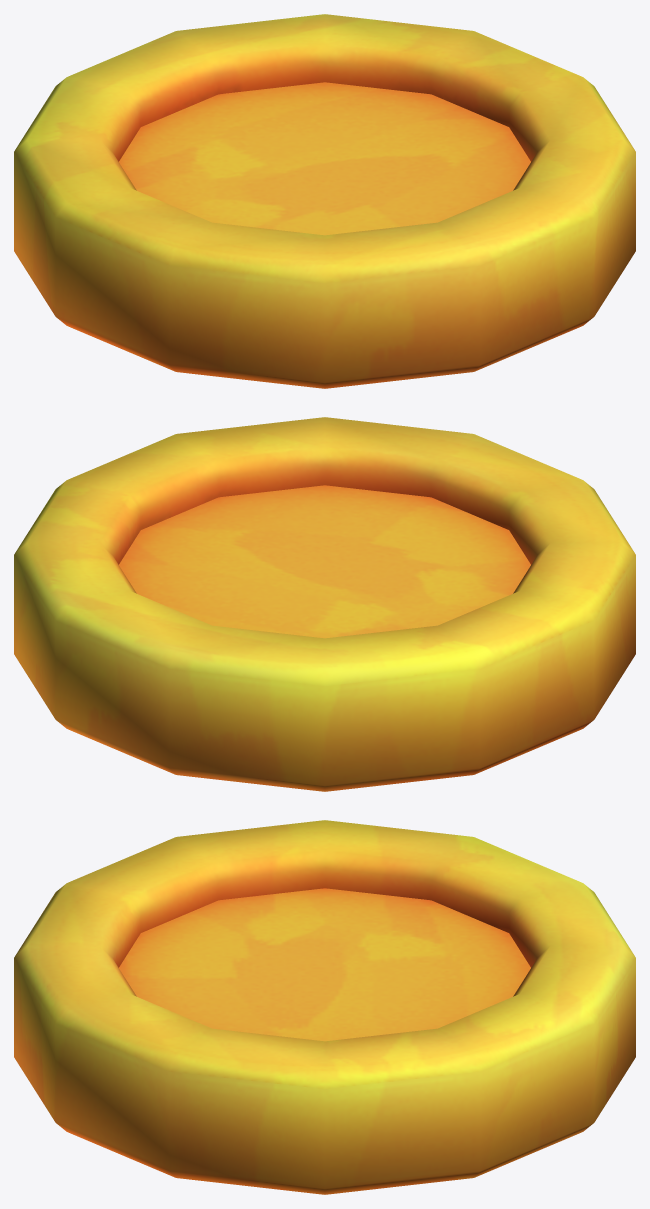
File: SM_Gold_Coin.fbx
3 renders of one model, top to bottom at view 1: azimuth 30°, elevation 25°; view 2: azimuth 150°, elevation 25°; view 3: azimuth 270°, elevation 25°, orthographic.
Visible parts, largest first — view 1: SM_Gold_Coin_LOD0; view 2: SM_Gold_Coin_LOD0; view 3: SM_Gold_Coin_LOD0.
Part boxes in pixels (box(x1,y1,x2,y2)): SM_Gold_Coin_LOD0: box(14, 14, 635, 388); SM_Gold_Coin_LOD0: box(14, 417, 635, 791); SM_Gold_Coin_LOD0: box(14, 820, 635, 1194).
Size of the model in its own units: 6.71 by 6.71 by 1.46.
Materials: 1 (1 with a texture image).
